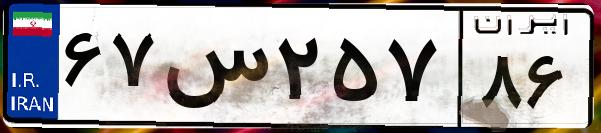2: (270, 28, 330, 110)
5: (330, 28, 385, 110)
6: (57, 26, 110, 100), (525, 38, 570, 115)
7: (385, 28, 445, 110), (110, 28, 158, 98)
8: (475, 38, 525, 113)
س: (158, 20, 270, 120)
